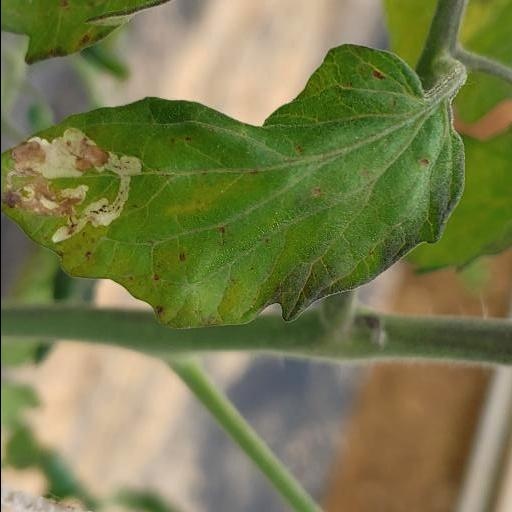disease_tomato: (1, 45, 461, 327)
